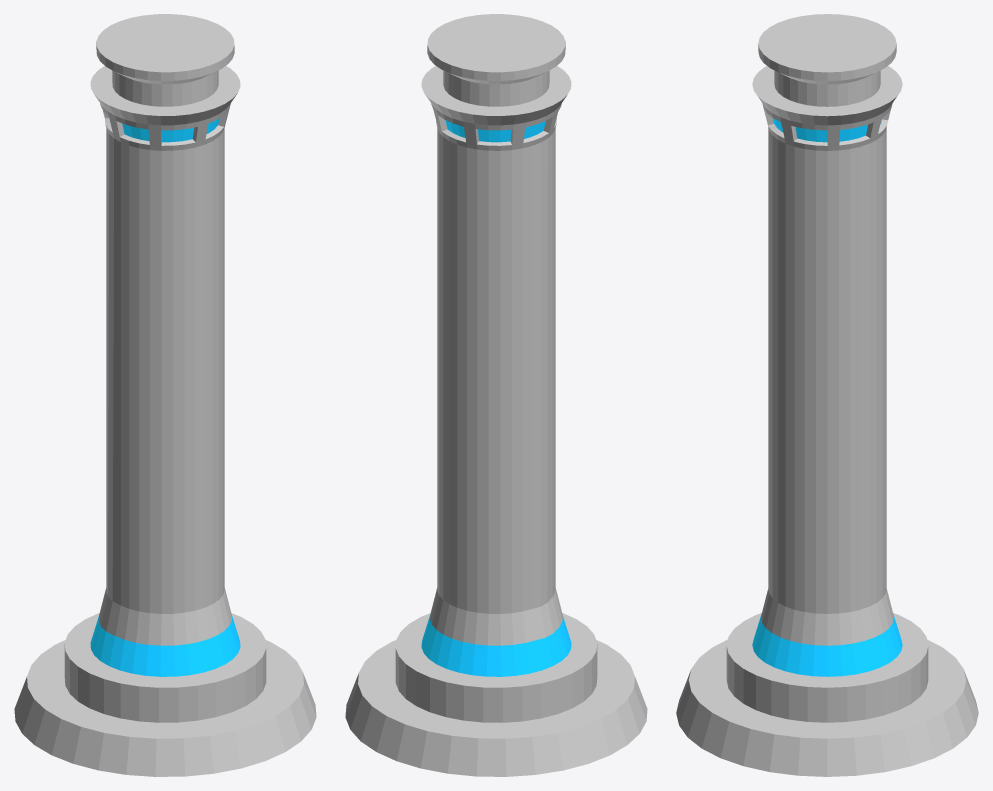
Rendered from Pillar.fbx.
3 views of the same model, side by side, from view 1: azimuth 30°, elevation 25°; view 2: azimuth 150°, elevation 25°; view 3: azimuth 270°, elevation 25° (orthographic).
Visible parts, largest first — view 1: 圓柱體; view 2: 圓柱體; view 3: 圓柱體.
Boxes of the visible parts, x1,y1,x2,y2 form: 圓柱體: (14,14,316,776); 圓柱體: (345,14,647,776); 圓柱體: (676,14,978,776).
Size of the model in its own units: 200 by 488 by 200.
